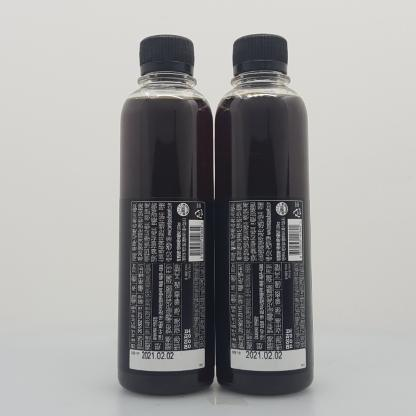--------------300ML: (213, 33, 314, 397), (118, 34, 215, 396)
